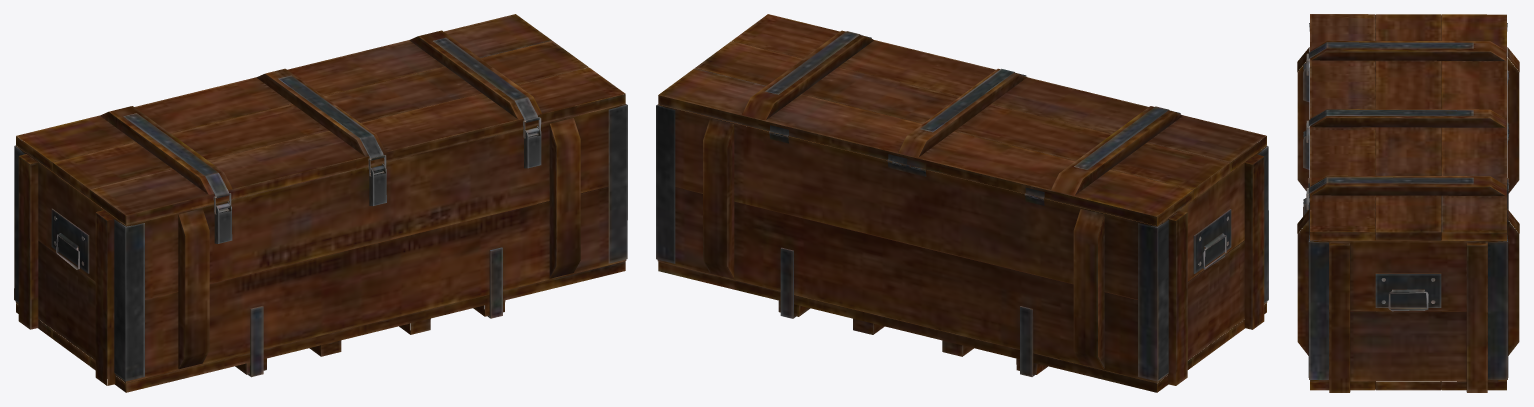
File: long_crate.glb
3 renders of one model, left to right at view 1: azimuth 30°, elevation 25°; view 2: azimuth 150°, elevation 25°; view 3: azimuth 270°, elevation 25°, orthographic. The views are drawn at different scales.
Visible parts, largest first — view 1: long_crate; view 2: long_crate; view 3: long_crate.
Part boxes in pixels (x1,y1,x2,y2): long_crate: (14,14,627,392); long_crate: (656,14,1268,392); long_crate: (1297,14,1519,392).
Size of the model in its own units: 1.24 by 0.4642 by 0.5171.
1 material, 1 textured.
